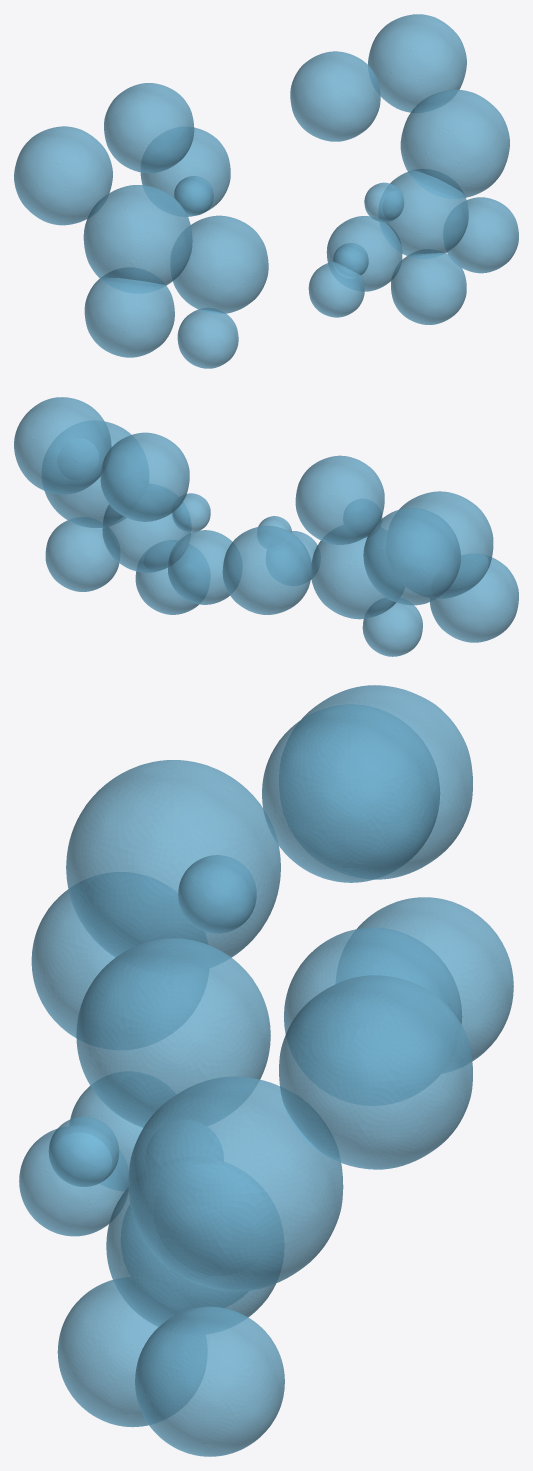
File: water001.fbx
3 views of the same model, one above another, from view 1: azimuth 30°, elevation 25°; view 2: azimuth 150°, elevation 25°; view 3: azimuth 270°, elevation 25° (orthographic). The views are drawn at different scales.
Parts seen in each view (by area): view 1: water; view 2: water; view 3: water.
Boxes of the visible parts, x1=… form: water: x1=14, y1=14, x2=518, y2=368; water: x1=14, y1=397, x2=518, y2=656; water: x1=19, y1=685, x2=513, y2=1456.
Size of the model in its own units: 3055 by 1612 by 1470.
